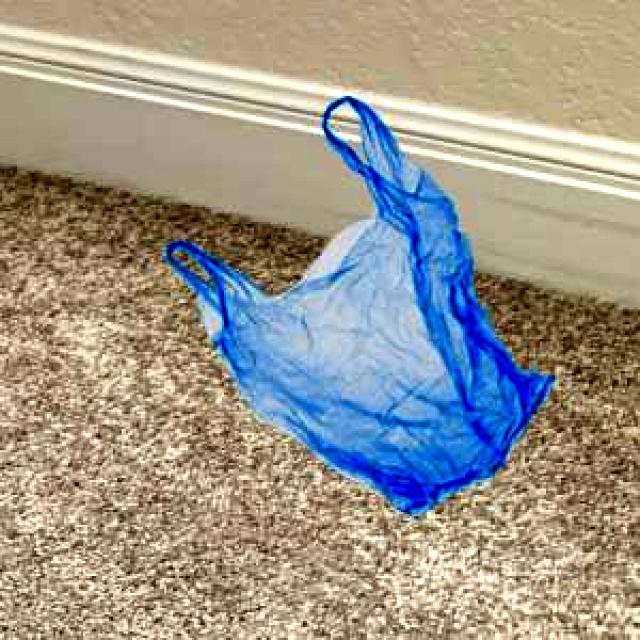Plastic_Bag: (166, 95, 552, 511)
